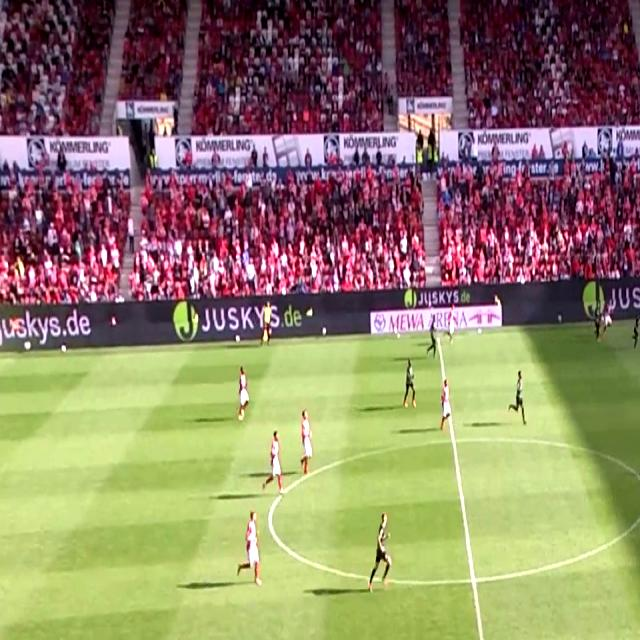referee: (262, 298, 284, 346)
soccer-player: (361, 508, 397, 594), (236, 511, 272, 596), (262, 428, 290, 502), (293, 405, 317, 484), (505, 367, 531, 432), (231, 363, 253, 424), (436, 374, 456, 436), (401, 356, 423, 410), (432, 303, 456, 351), (590, 296, 612, 346), (428, 309, 449, 361), (584, 286, 602, 338), (629, 316, 640, 351)
